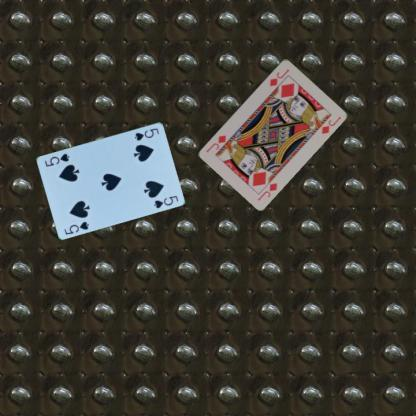5s: (62, 218, 90, 236), (132, 126, 160, 142)
Jd: (267, 66, 291, 88), (255, 180, 278, 202)
